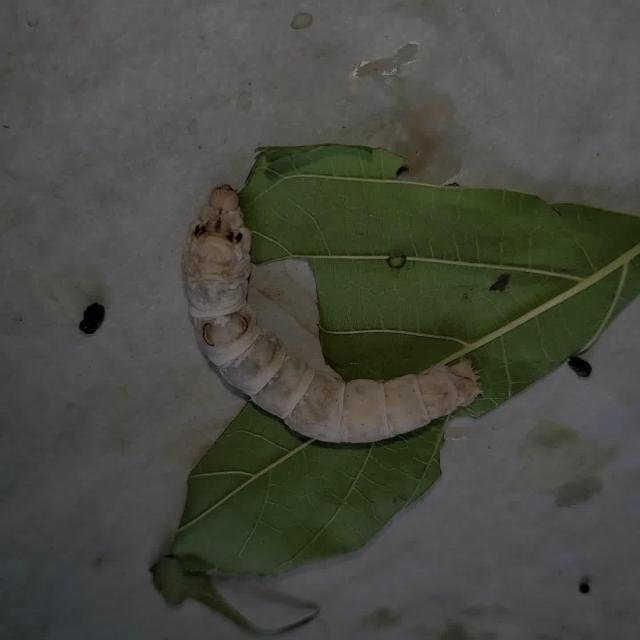Grasserie: (175, 176, 484, 460)
